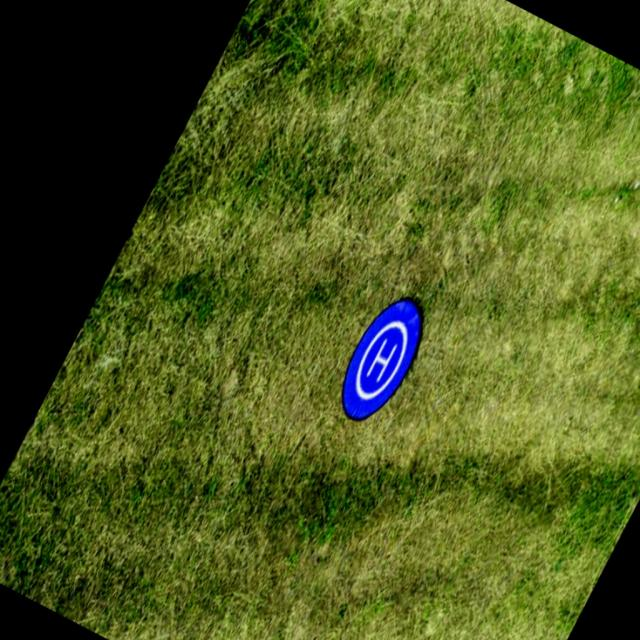helipad: (352, 317, 414, 402)
